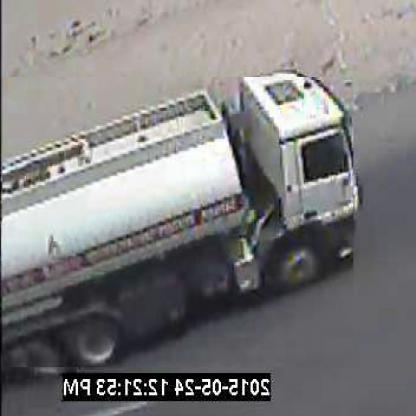truck: (3, 78, 355, 370)
